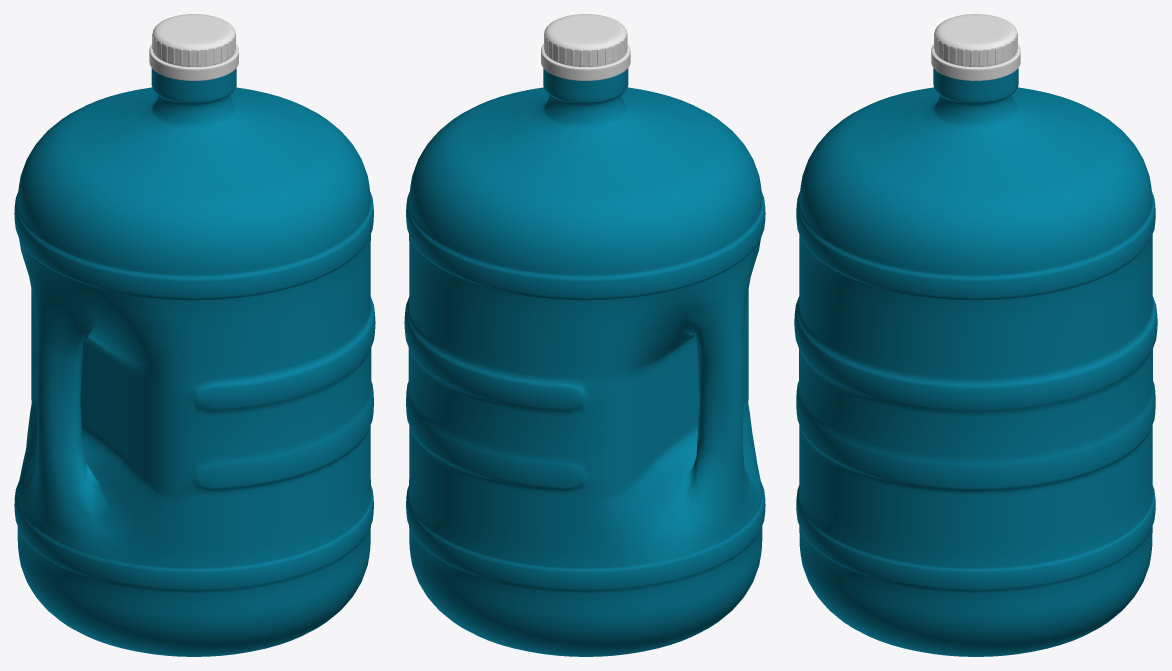
File: Gallon_water.fbx
The picture shows the model from 3 angles, left to right: view 1: azimuth 30°, elevation 25°; view 2: azimuth 150°, elevation 25°; view 3: azimuth 270°, elevation 25°; orthographic projection.
Parts seen in each view (by area): view 1: Bottle, Tap; view 2: Bottle, Tap; view 3: Bottle, Tap.
Part boxes in pixels (bbox=[...]): Bottle: bbox=[14, 68, 375, 656]; Tap: bbox=[149, 14, 238, 80]; Bottle: bbox=[404, 68, 765, 656]; Tap: bbox=[541, 14, 630, 80]; Bottle: bbox=[794, 68, 1157, 656]; Tap: bbox=[931, 14, 1020, 80].
Size of the model in its own units: 7.61 by 13.39 by 7.66.
